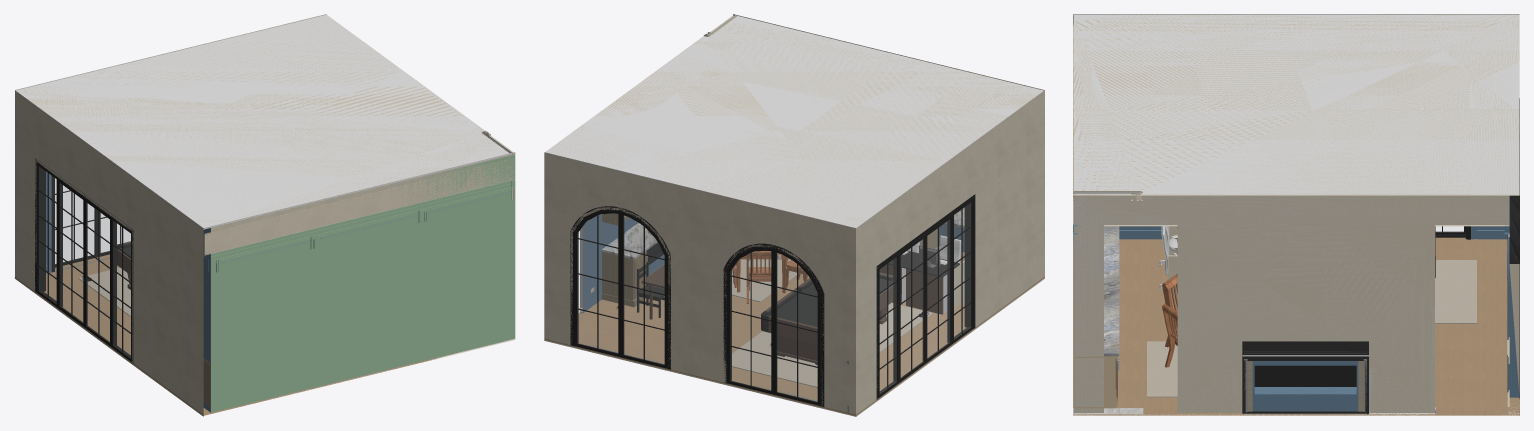
The model's file is game-room-9ea8eff8e07c.glb.
3 renders of one model, left to right at view 1: azimuth 30°, elevation 25°; view 2: azimuth 150°, elevation 25°; view 3: azimuth 270°, elevation 25°, orthographic. The views are drawn at different scales.
Visible parts, largest first — view 1: game-room-4a969f5cc1ae3dfe, game-room-30c5953c9ad73e5d, game-room-039192b0560cfac3, game-room-50d54560d247b537, game-room-9fbf623a647a21dd, game-room-2575515a05775d9e, game-room-3b0077416469e01b, game-room-67b6630d0fa028c8, game-room-8b1c368f4645b32b, game-room-bd62734a7bc60eb7, game-room-67f50005143d10e9, game-room-76fec1e12e3db62a; view 2: game-room-4a969f5cc1ae3dfe, game-room-969b861f9850351e, game-room-039192b0560cfac3, game-room-50d54560d247b537, game-room-67b6630d0fa028c8, game-room-b7bc8997c06ae95e, game-room-9fbf623a647a21dd, game-room-3b0077416469e01b, game-room-7e27048eb38fd2e0, game-room-67f50005143d10e9, game-room-7702f65bebcbcfe5, game-room-3e6709f91b43c3bf (+7 smaller); view 3: game-room-4a969f5cc1ae3dfe, game-room-3e6709f91b43c3bf, game-room-50d54560d247b537, game-room-55ff1dfd7b659ec1, game-room-3b0077416469e01b, game-room-be466a48328c943d, game-room-7ee86ede15340c02, game-room-67f50005143d10e9, game-room-b441e3c3bf4dbad3, game-room-6406bffcd6948b80, game-room-17e2c43ba4c79eae, game-room-969b861f9850351e (+8 smaller).
Part boxes in pixels (x1=…): game-room-4a969f5cc1ae3dfe: x1=15, y1=14, x2=511, y2=229; game-room-30c5953c9ad73e5d: x1=210, y1=155, x2=515, y2=412; game-room-039192b0560cfac3: x1=15, y1=92, x2=210, y2=414; game-room-50d54560d247b537: x1=15, y1=14, x2=512, y2=228; game-room-9fbf623a647a21dd: x1=35, y1=158, x2=133, y2=363; game-room-2575515a05775d9e: x1=204, y1=158, x2=515, y2=255; game-room-3b0077416469e01b: x1=15, y1=254, x2=513, y2=415; game-room-67b6630d0fa028c8: x1=51, y1=176, x2=130, y2=272; game-room-8b1c368f4645b32b: x1=211, y1=180, x2=511, y2=260; game-room-bd62734a7bc60eb7: x1=203, y1=153, x2=515, y2=231; game-room-67f50005143d10e9: x1=78, y1=267, x2=130, y2=316; game-room-76fec1e12e3db62a: x1=15, y1=278, x2=515, y2=416; game-room-4a969f5cc1ae3dfe: x1=544, y1=16, x2=1044, y2=229; game-room-969b861f9850351e: x1=544, y1=153, x2=848, y2=412; game-room-039192b0560cfac3: x1=848, y1=91, x2=1044, y2=414; game-room-50d54560d247b537: x1=544, y1=15, x2=1044, y2=228; game-room-67b6630d0fa028c8: x1=723, y1=243, x2=824, y2=406; game-room-b7bc8997c06ae95e: x1=570, y1=206, x2=670, y2=369; game-room-9fbf623a647a21dd: x1=876, y1=194, x2=975, y2=399; game-room-3b0077416469e01b: x1=544, y1=273, x2=1044, y2=415; game-room-7e27048eb38fd2e0: x1=761, y1=272, x2=901, y2=364; game-room-67f50005143d10e9: x1=732, y1=303, x2=932, y2=387; game-room-7702f65bebcbcfe5: x1=901, y1=235, x2=961, y2=314; game-room-3e6709f91b43c3bf: x1=582, y1=214, x2=638, y2=312; game-room-4a969f5cc1ae3dfe: x1=1073, y1=14, x2=1519, y2=195; game-room-3e6709f91b43c3bf: x1=1074, y1=194, x2=1509, y2=412; game-room-50d54560d247b537: x1=1073, y1=14, x2=1519, y2=194; game-room-55ff1dfd7b659ec1: x1=1073, y1=194, x2=1509, y2=414; game-room-3b0077416469e01b: x1=1073, y1=237, x2=1519, y2=415; game-room-be466a48328c943d: x1=1242, y1=341, x2=1368, y2=414; game-room-7ee86ede15340c02: x1=1252, y1=361, x2=1358, y2=411; game-room-67f50005143d10e9: x1=1435, y1=260, x2=1476, y2=323; game-room-b441e3c3bf4dbad3: x1=1254, y1=365, x2=1356, y2=386; game-room-6406bffcd6948b80: x1=1104, y1=254, x2=1119, y2=356; game-room-17e2c43ba4c79eae: x1=1147, y1=341, x2=1177, y2=397; game-room-969b861f9850351e: x1=1509, y1=194, x2=1519, y2=414.
Size of the model in its own units: 6.15 by 3.56 by 6.46.
Materials: 55 (14 with a texture image).
